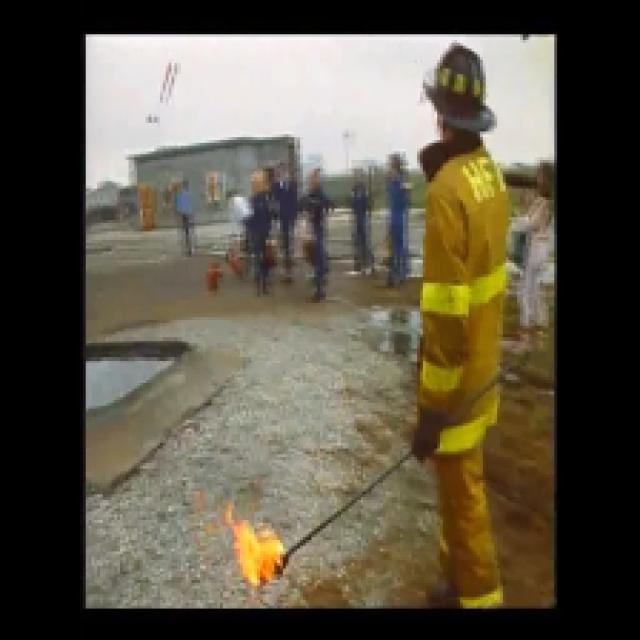fire: (210, 507, 288, 584)
